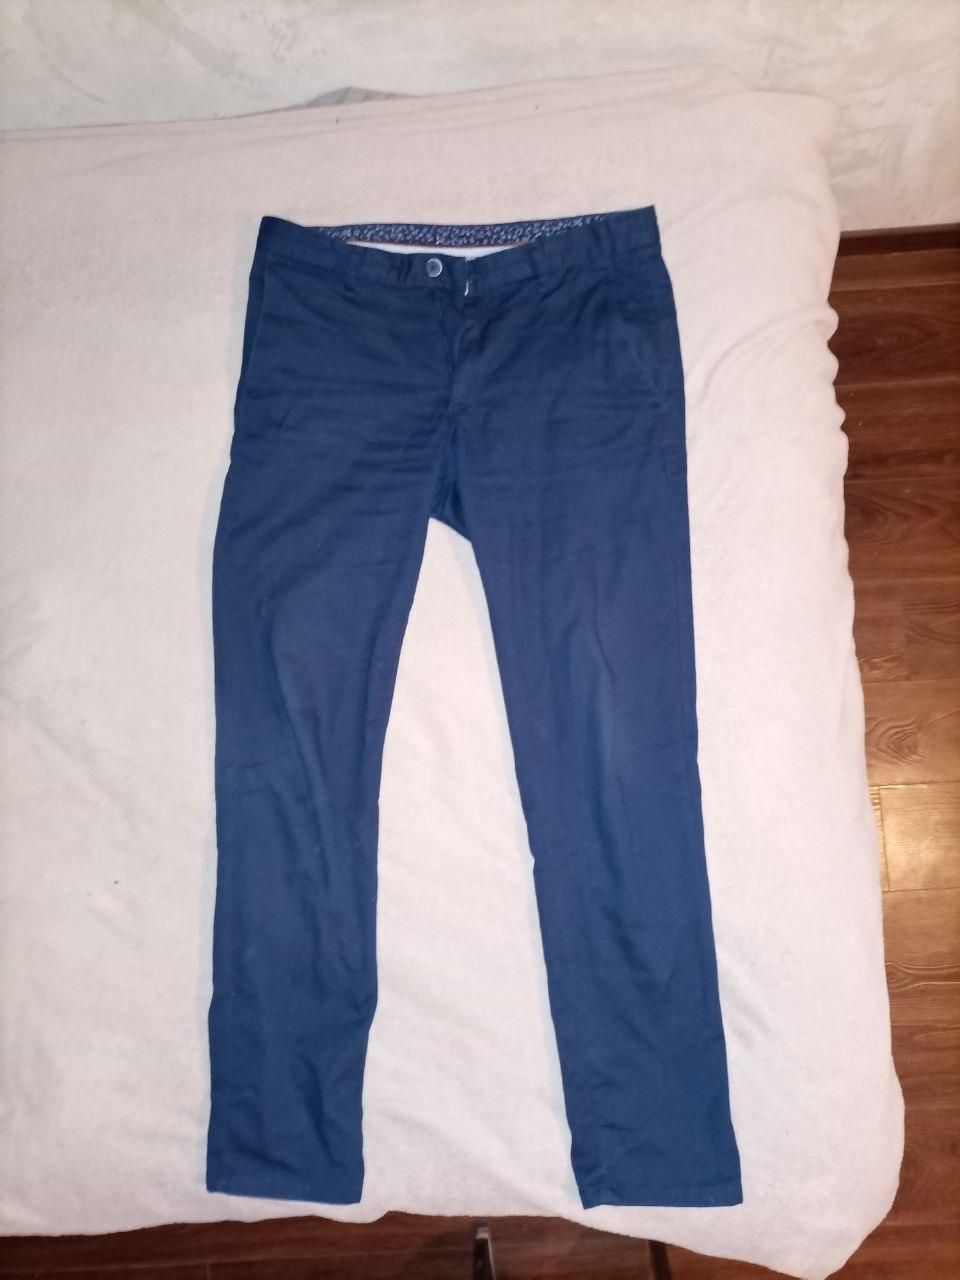clothes: (195, 205, 757, 1224)
